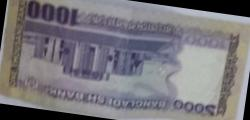1000 taka: (10, 1, 237, 116)
